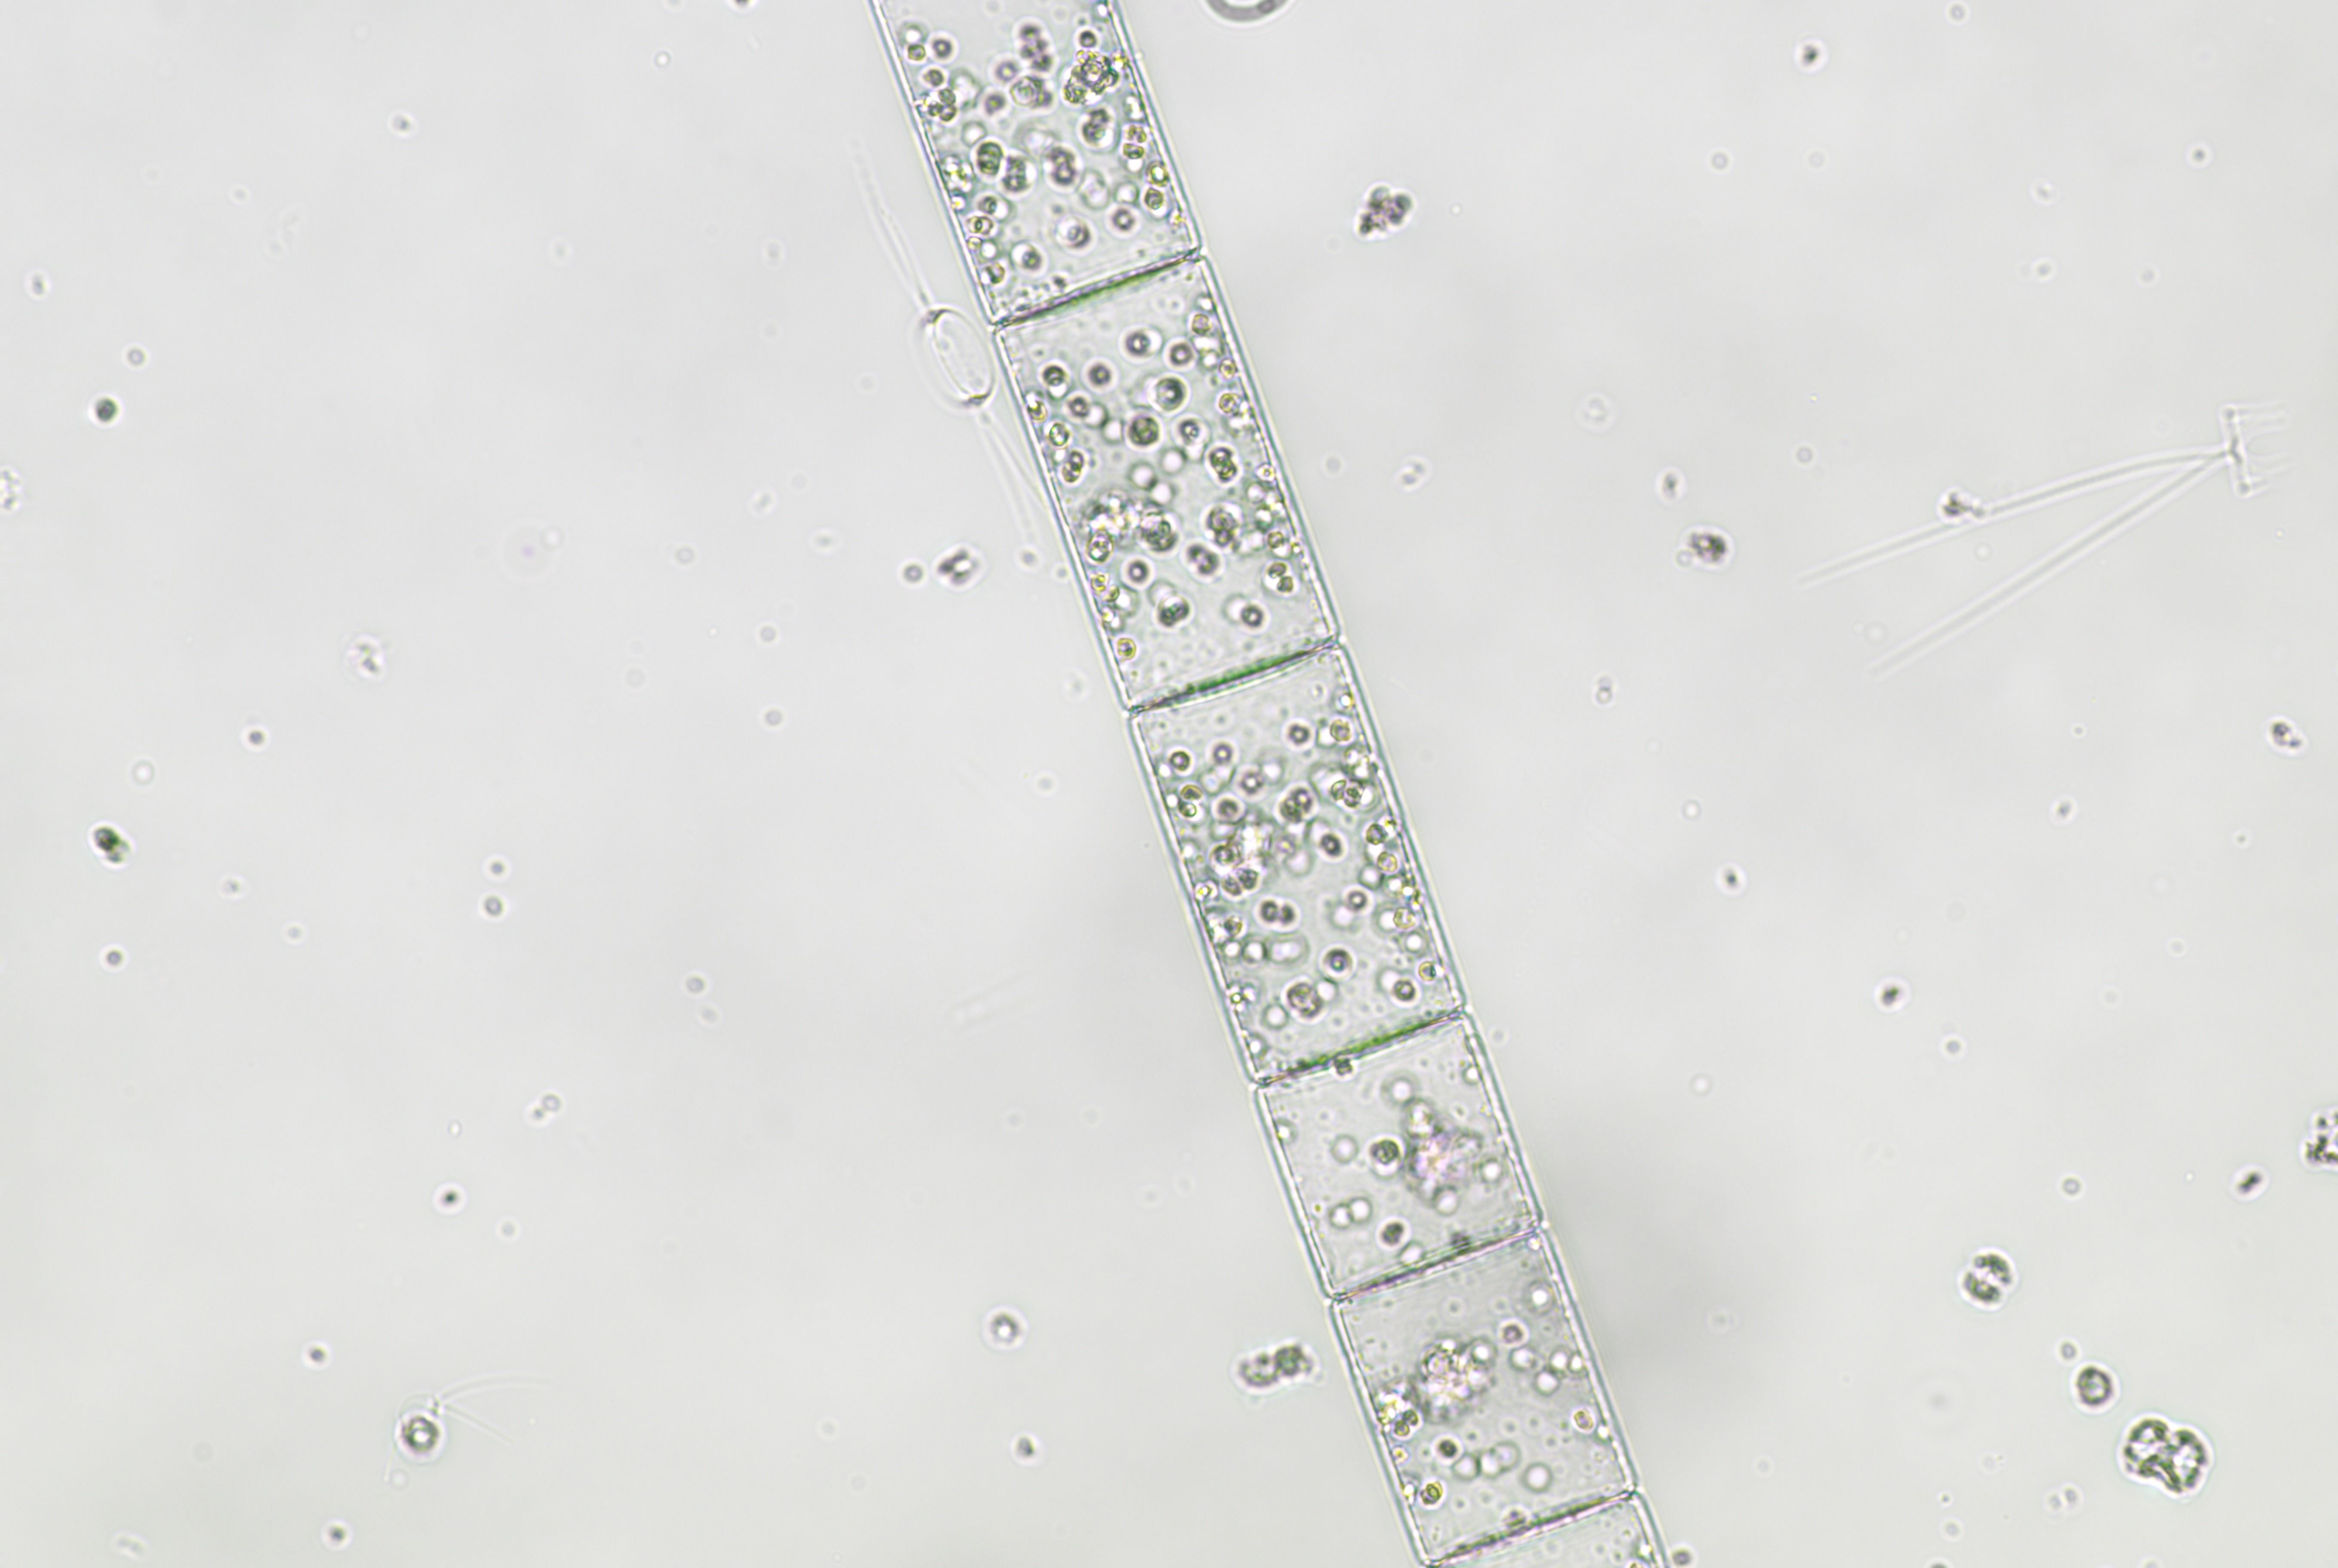chaetoceros: (829, 173, 1047, 553)
guinardia flaccida: (865, 5, 1689, 1568)
